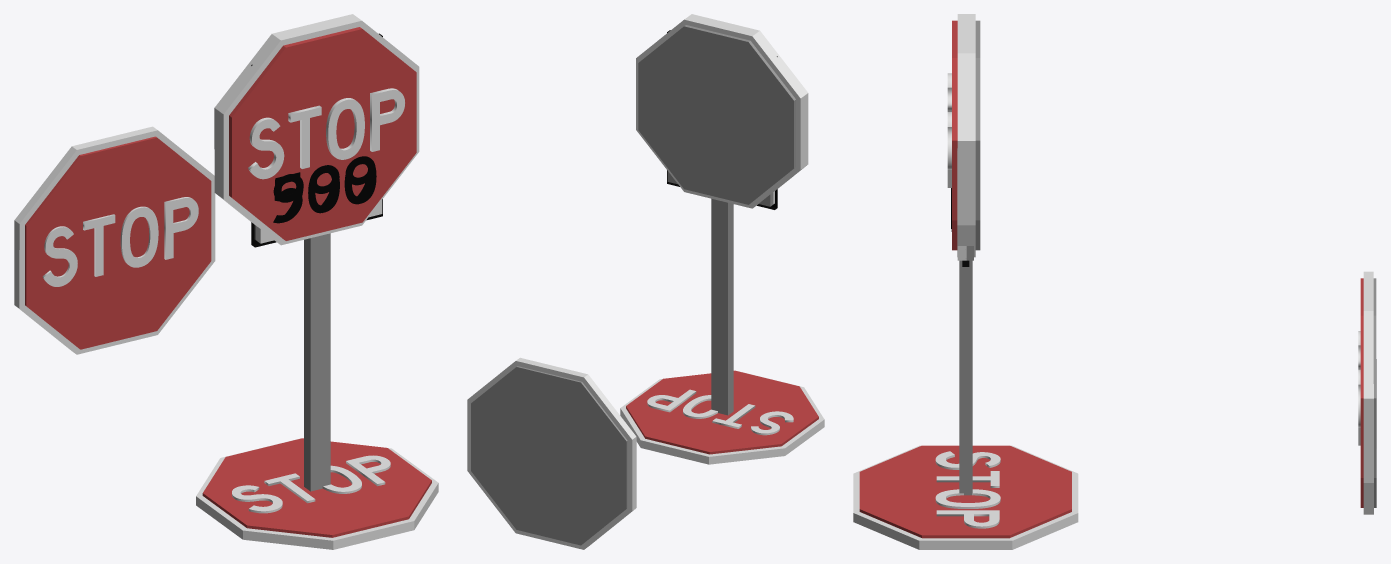
Rendered from roadSigns.glb.
3 renders of one model, left to right at view 1: azimuth 30°, elevation 25°; view 2: azimuth 150°, elevation 25°; view 3: azimuth 270°, elevation 25°, orthographic. The views are drawn at different scales.
Parts seen in each view (by area): view 1: StopSignWall, StopSignPole, Cylinder, SL50, Cylinder.001, Text, SL500, SL999; view 2: StopSignPole, StopSignWall, Cylinder, SL50, SL500, Cylinder.001, Text; view 3: Cylinder, StopSignPole, StopSignWall, Cylinder.001, SL50, Text.
Boxes of the visible parts, x1,y1,x2,y2 form: StopSignWall: [14, 126, 215, 354]; StopSignPole: [214, 14, 419, 245]; Cylinder: [202, 438, 431, 537]; SL50: [251, 33, 382, 491]; Cylinder.001: [196, 438, 438, 549]; Text: [232, 455, 390, 513]; SL500: [251, 34, 382, 490]; SL999: [273, 156, 375, 221]; StopSignPole: [636, 14, 808, 208]; StopSignWall: [467, 357, 636, 549]; Cylinder: [626, 370, 818, 454]; SL50: [667, 30, 777, 415]; SL500: [667, 172, 777, 414]; Cylinder.001: [620, 370, 824, 464]; Text: [647, 389, 793, 435]; Cylinder: [859, 445, 1071, 538]; StopSignPole: [947, 14, 980, 257]; StopSignWall: [1358, 271, 1376, 514]; Cylinder.001: [853, 445, 1078, 549]; SL50: [957, 246, 973, 495]; Text: [935, 451, 1000, 528].
Size of the model in its own units: 5.54 by 12.81 by 12.89.
